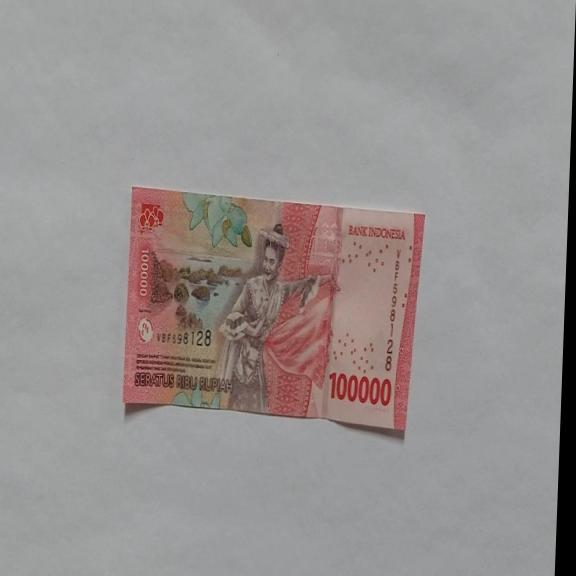Kertas: (120, 184, 427, 438), (327, 370, 393, 407)
